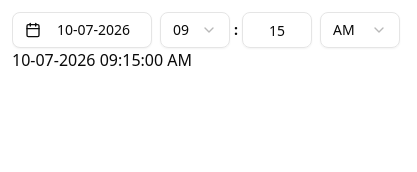
Test: ReportEditor keyboard and environment behavior › accepts minute 00 in the date-time picker
This screenshot has width=417, height=172.
Replace the text in the field named "分钟" with "00" at point(277, 30), box [242,12,312,48]
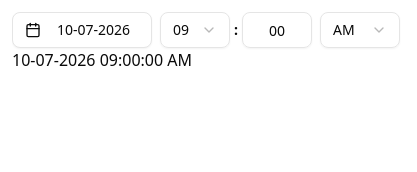
Now the text "10-07-2026 09:00:00 AM" is shown, box [12,49,192,71]
